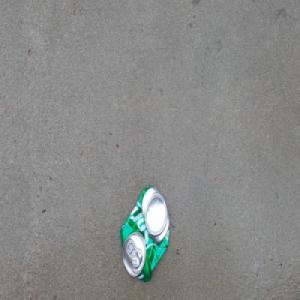SodaCan: (118, 183, 171, 285)
